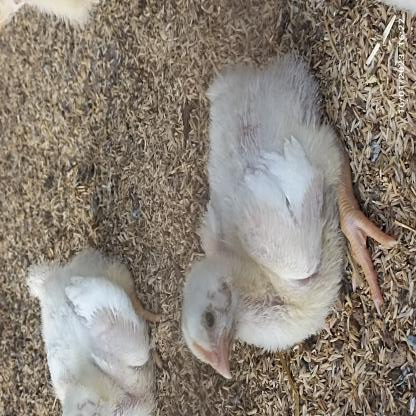Unhealthy: (175, 49, 394, 371)
